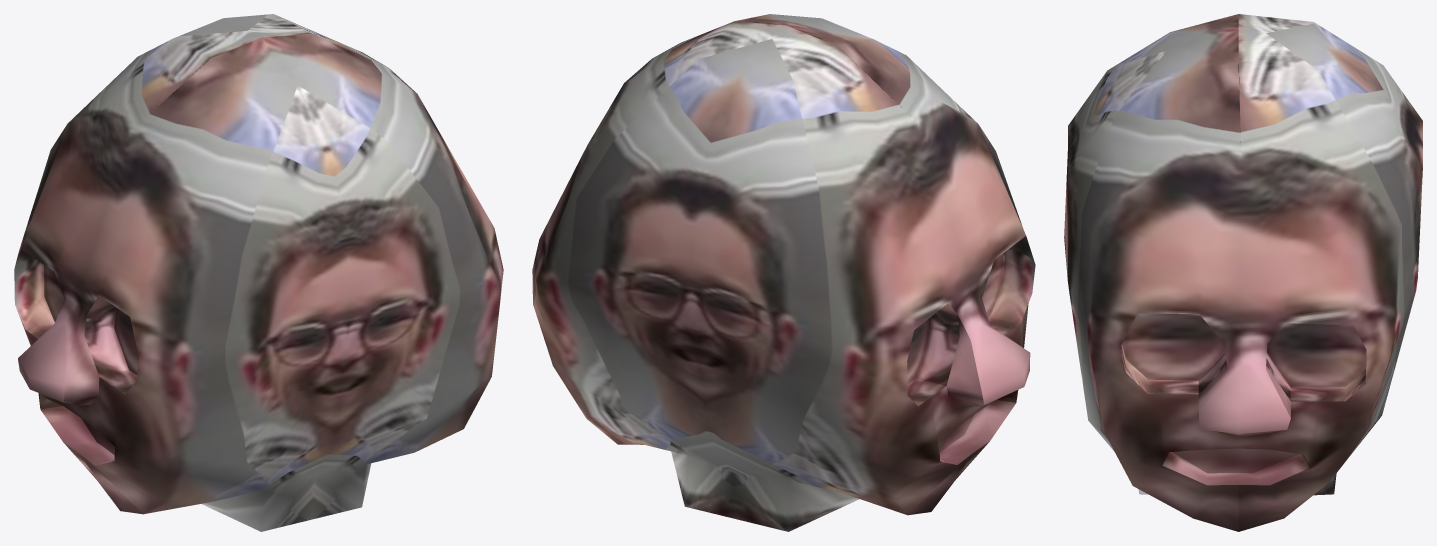
The model's file is Tete_lucas.fbx.
The picture shows the model from 3 angles, left to right: view 1: azimuth 30°, elevation 25°; view 2: azimuth 150°, elevation 25°; view 3: azimuth 270°, elevation 25°; orthographic projection. The views are drawn at different scales.
Parts seen in each view (by area): view 1: D_tete_Lucas; view 2: D_tete_Lucas; view 3: D_tete_Lucas.
Part boxes in pixels (left/top/right/bottom): D_tete_Lucas: left=14, top=14, right=503, bottom=531; D_tete_Lucas: left=532, top=14, right=1035, bottom=531; D_tete_Lucas: left=1064, top=14, right=1422, bottom=531.
Size of the model in its own units: 292 by 268 by 198.
